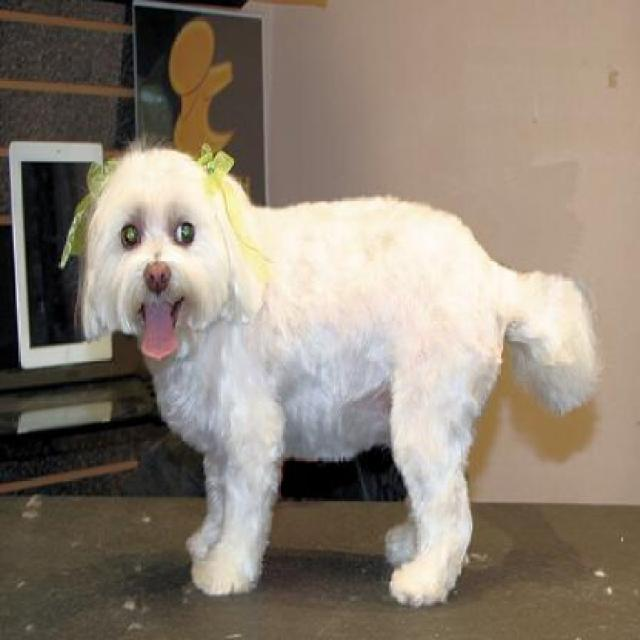Dog: (78, 132, 611, 610)
